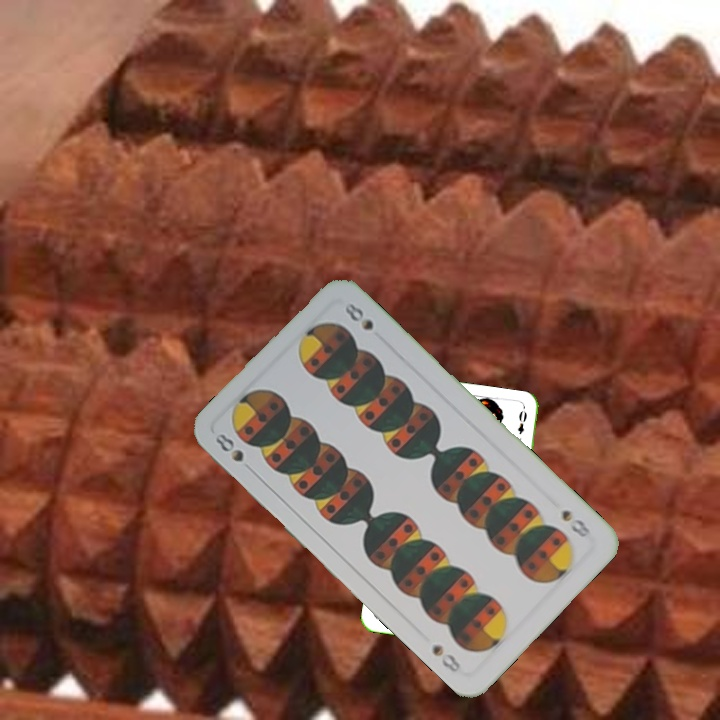S8: (557, 505, 594, 540), (211, 429, 246, 465)
